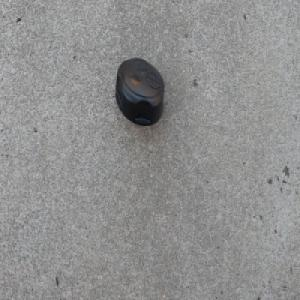FuelCap: (115, 55, 166, 130)
